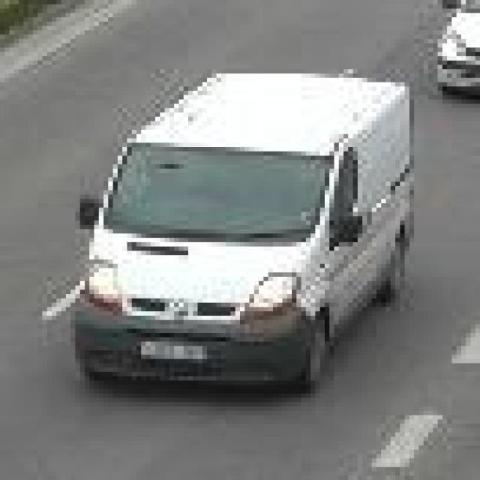van: (74, 71, 417, 396)
